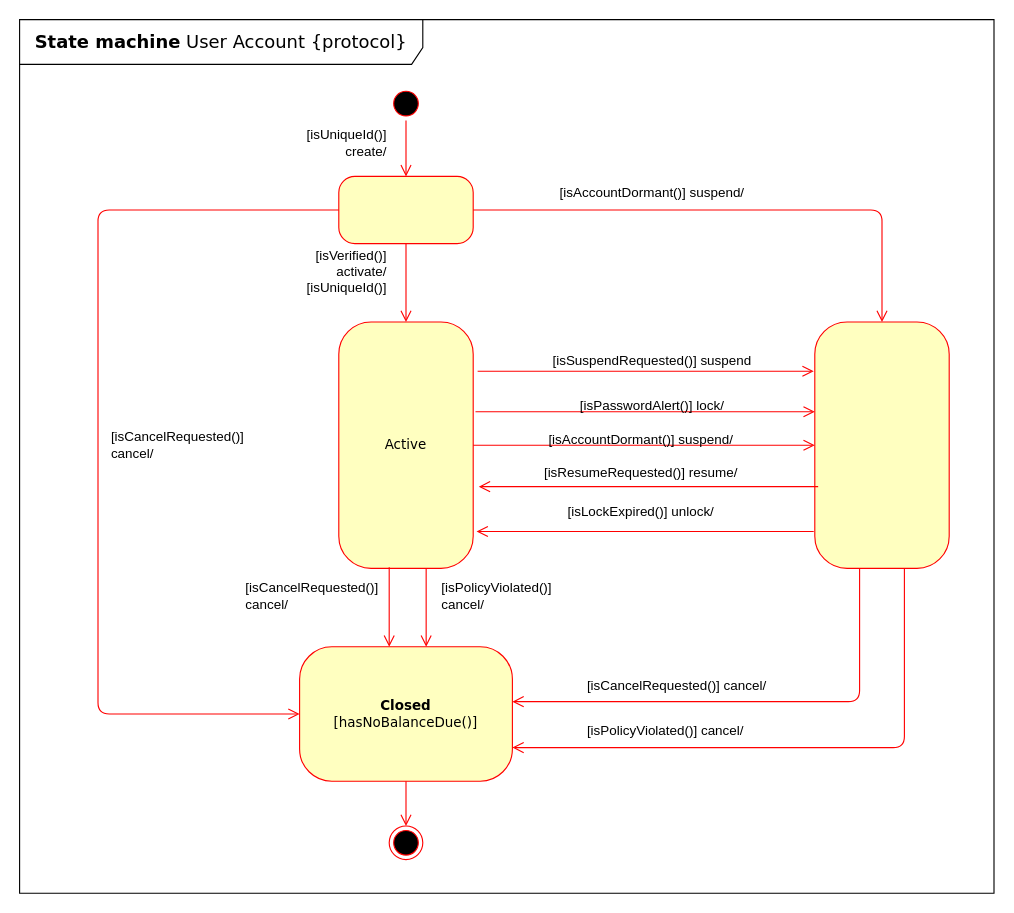
The diagram is 1014 pixels wide and 913 high, and some of its shapes have lost their labels. The centre of each missing label's shape, as x and y in pixels:
New: point (405, 209)
Suspended: point (881, 444)
